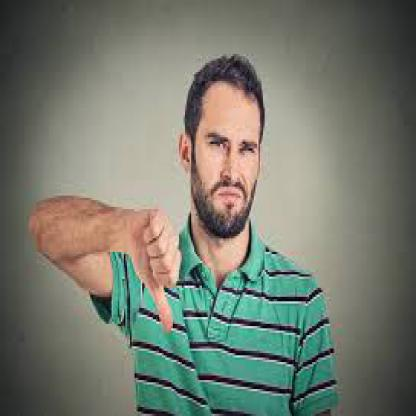Thumbs Down: (122, 207, 188, 337)
